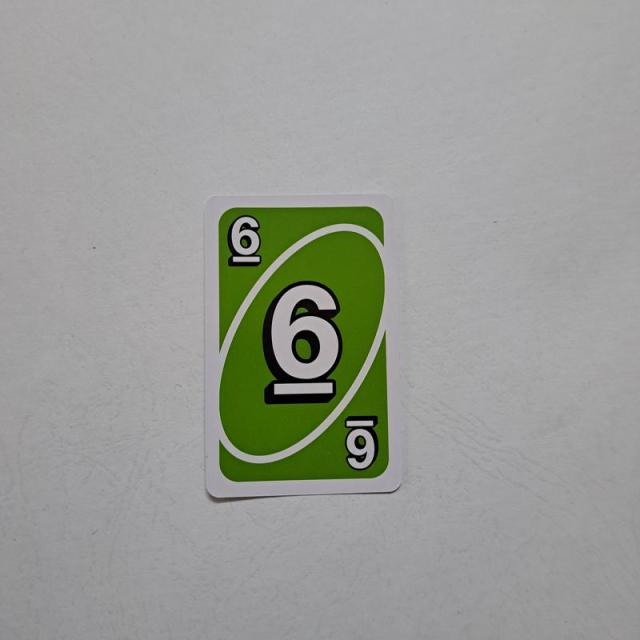Green_Card: (214, 203, 394, 485)
Number_6: (227, 210, 263, 270)
